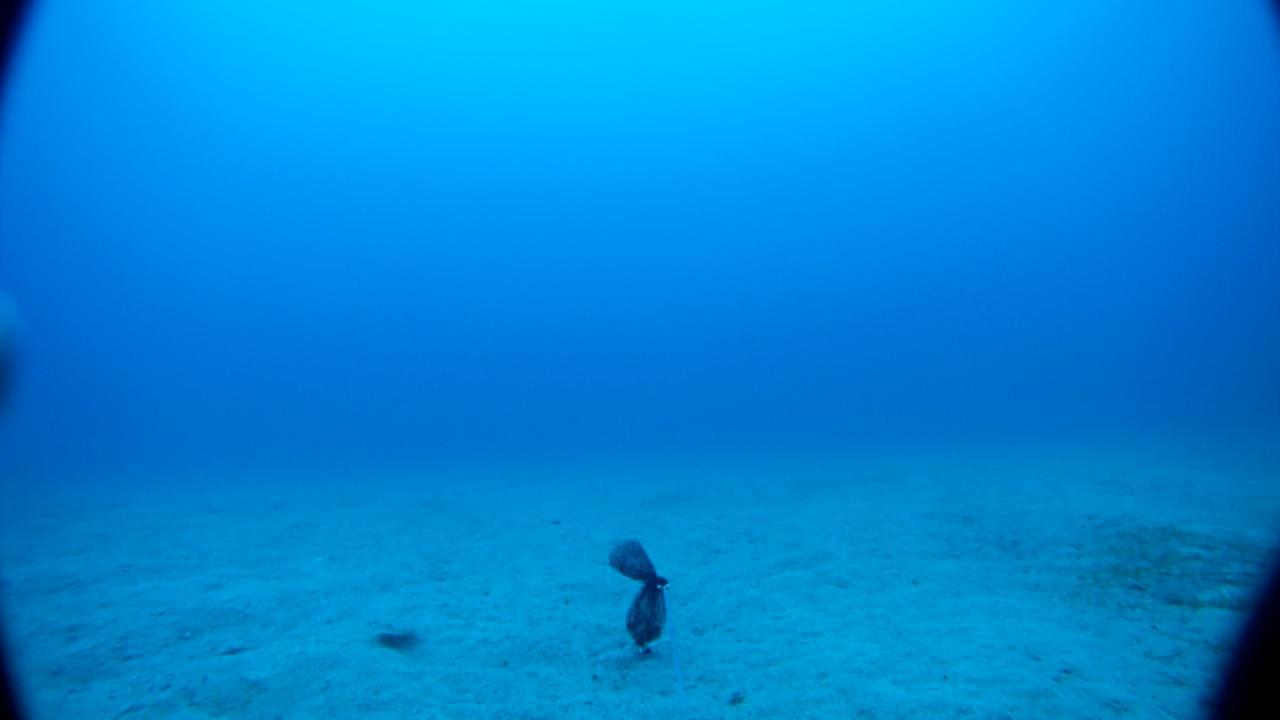bothus: (360, 617, 417, 642)
